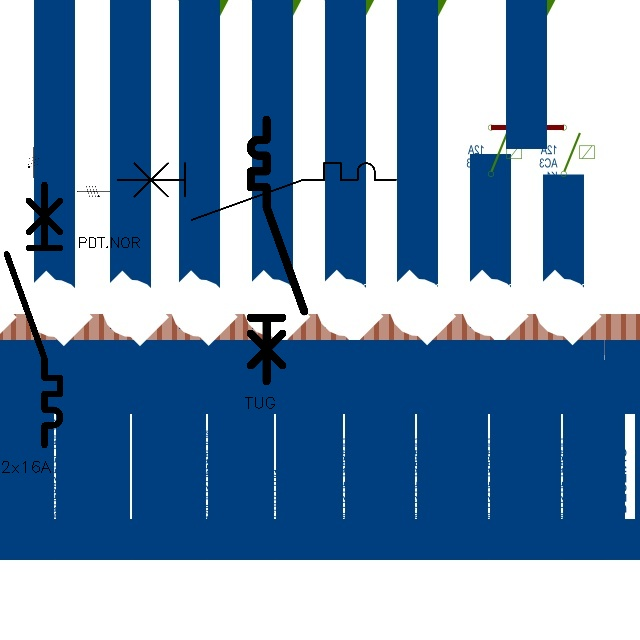interruptor_termomagnetico: (110, 156, 403, 227), (244, 113, 311, 388), (0, 178, 67, 452)
